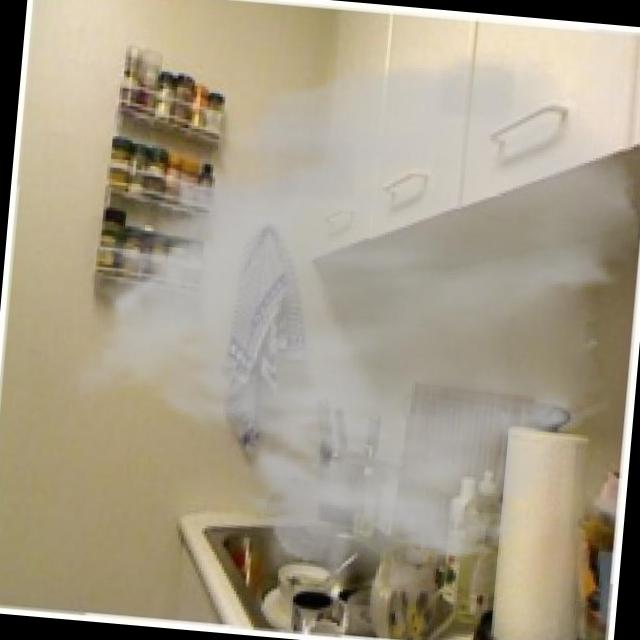Smoke: (49, 11, 640, 615)
